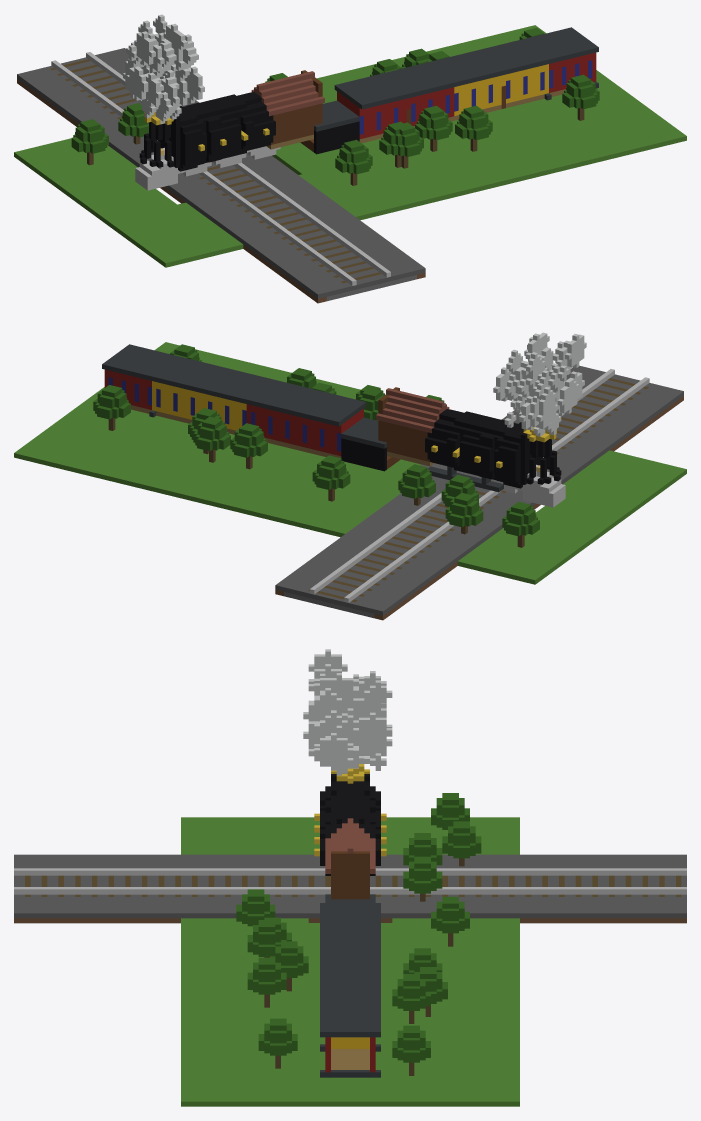
3 views of the same model, one above another, from view 1: azimuth 30°, elevation 25°; view 2: azimuth 150°, elevation 25°; view 3: azimuth 270°, elevation 25° (orthographic). The views are drawn at different scales.
Size of the model in its own units: 121 by 39 by 121.
